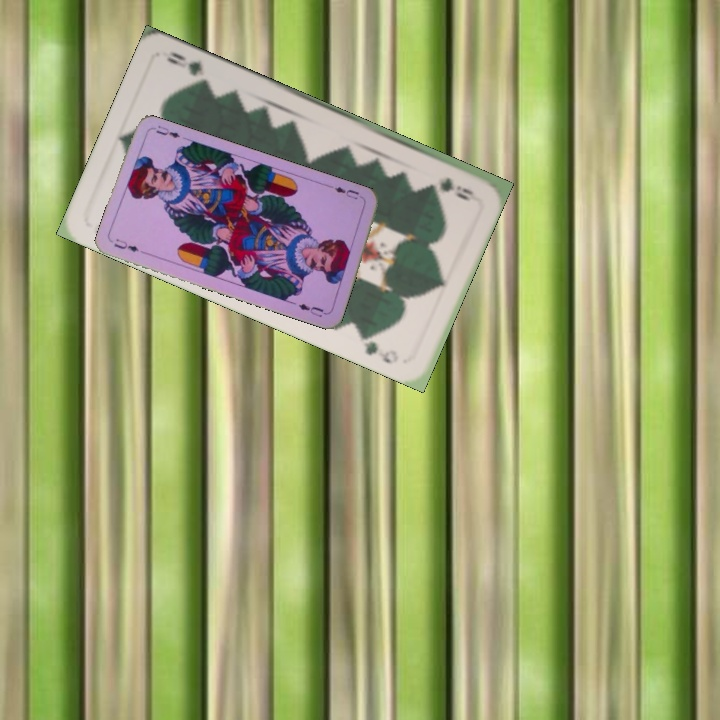EU: (326, 182, 366, 202), (110, 234, 141, 254)
G9: (435, 173, 477, 201)
